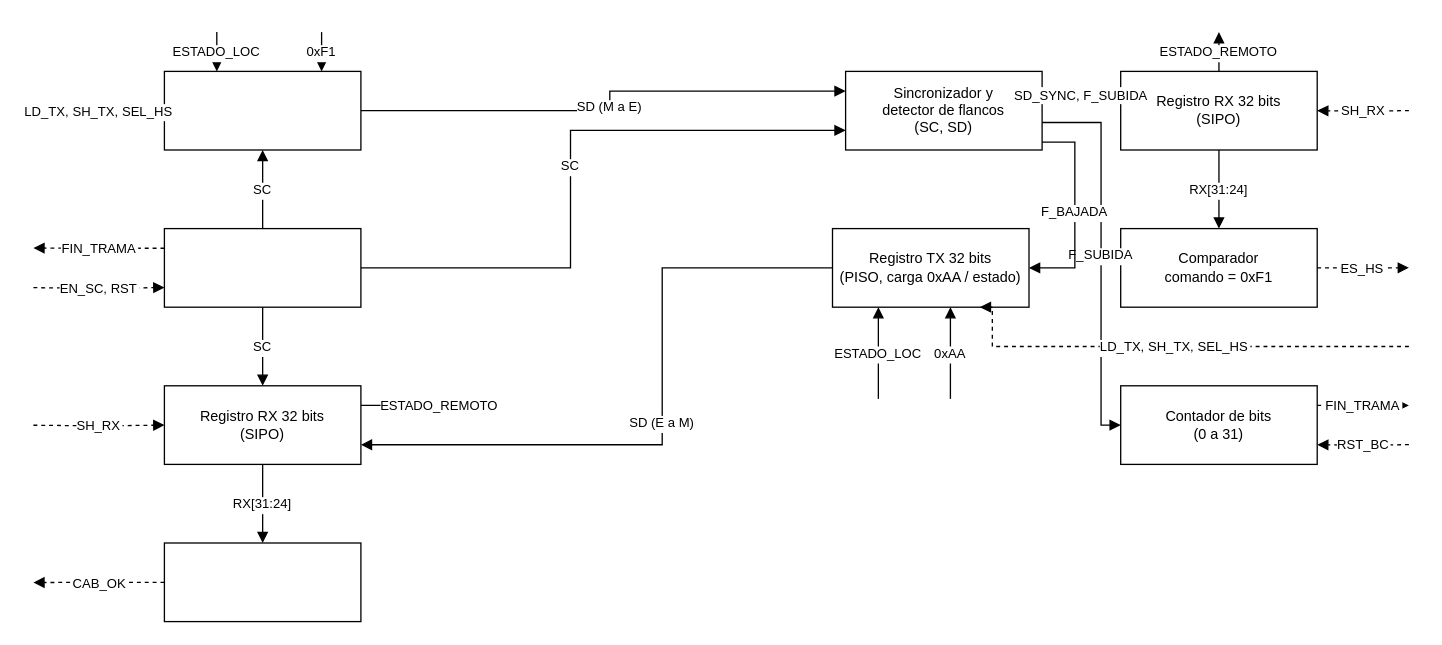
Image size: 1442x645. Some labels were removed from this diagram. Here are the shapes that lost their labels. From the top down, the box of each, then its label:
(163, 70, 361, 150): Registro TX 32 bits (PISO, carga 0xF1 / trama)
(163, 227, 361, 307): Generador SC y contador de bits (0 a 31)
(163, 542, 361, 622): Comparador cabecera = 0xAA
